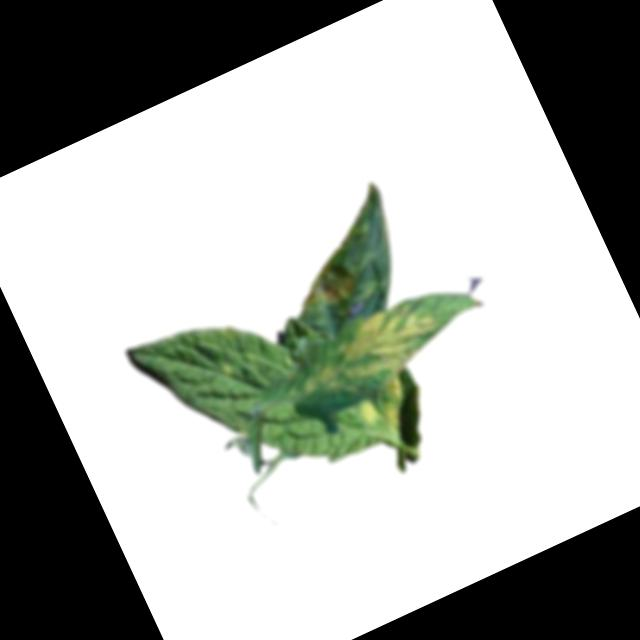Leaf_Mold: (286, 292, 448, 411), (286, 246, 370, 321), (354, 373, 418, 439)
